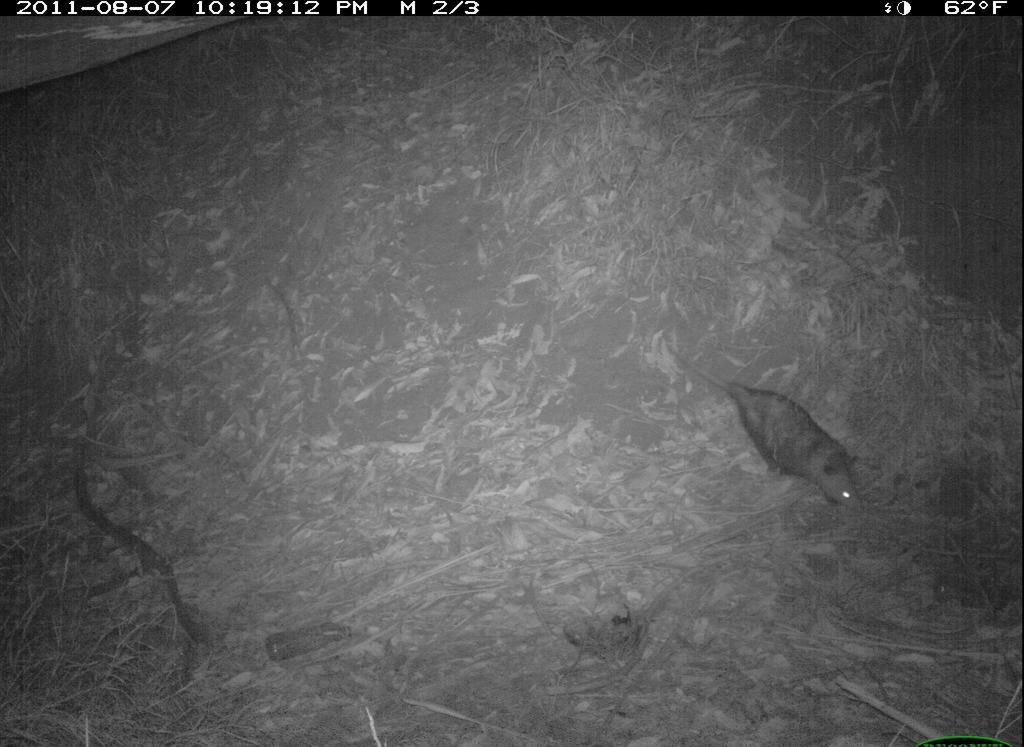opossum: (665, 336, 872, 520)
